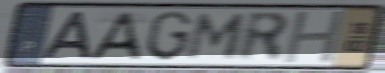A: (86, 10, 143, 62), (37, 10, 94, 61)
G: (143, 10, 195, 63)
H: (280, 9, 349, 66)
M: (183, 12, 250, 62)
R: (236, 10, 291, 64)
